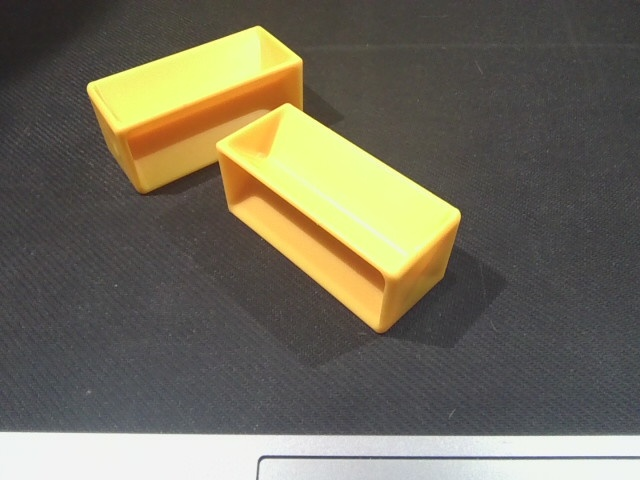YellowSample: (211, 97, 464, 334), (77, 19, 308, 198)
